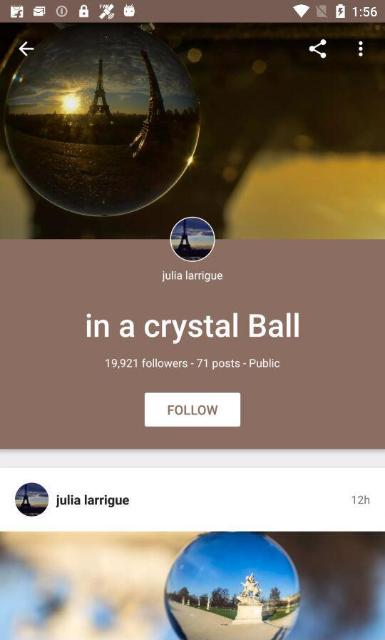Icon: (309, 40, 327, 59), (18, 41, 34, 57), (358, 41, 362, 57)
Image: (0, 23, 384, 239), (0, 531, 384, 639), (169, 215, 215, 262), (14, 481, 48, 517)
Text: (85, 311, 299, 345), (105, 358, 279, 370), (55, 494, 129, 506), (161, 270, 223, 282), (168, 405, 218, 415), (352, 495, 370, 505)
TextButton: (144, 392, 240, 426)
UpperTaskBar: (0, 0, 384, 22)
